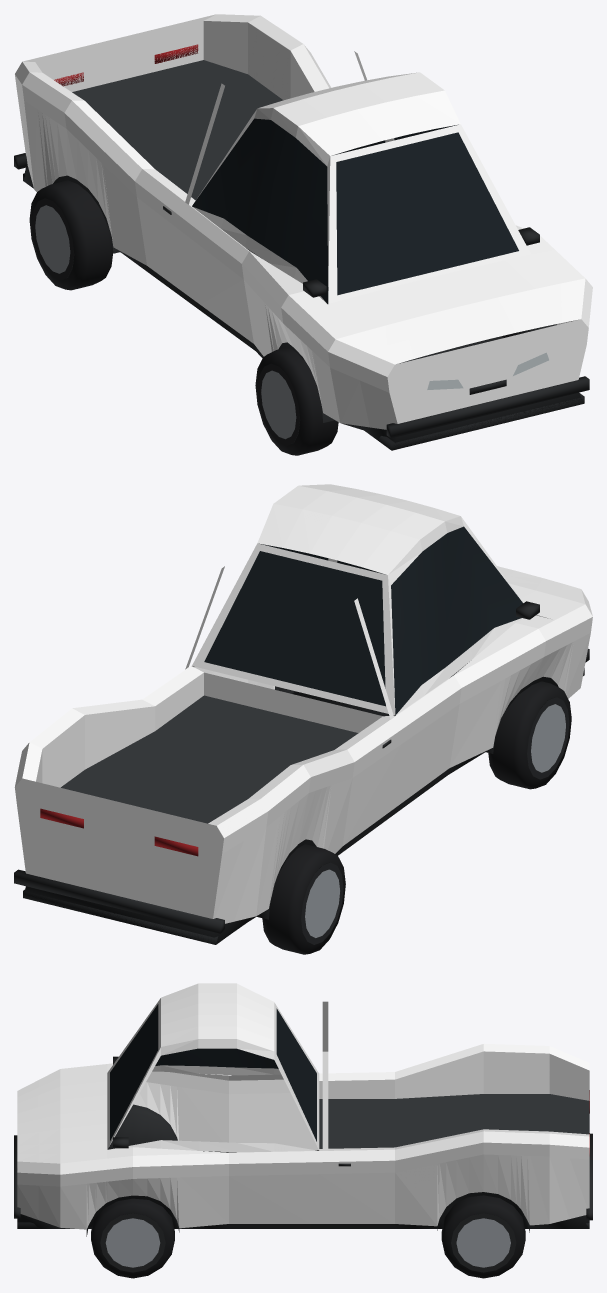
File: whitlock_carreiro.glb
The picture shows the model from 3 angles, top to bottom: view 1: azimuth 30°, elevation 25°; view 2: azimuth 150°, elevation 25°; view 3: azimuth 270°, elevation 25°; orthographic projection. The views are drawn at different scales.
Parts seen in each view (by area): view 1: Body_Paint, Body_Details, Mount_RearLeft_Wheel_Details, Mount_FrontLeft_Wheel_Details; view 2: Body_Paint, Body_Details, Mount_RearLeft_Wheel_Details, Mount_FrontLeft_Wheel_Details; view 3: Body_Paint, Body_Details, Mount_RearRight_Wheel_Details, Mount_FrontRight_Wheel_Details.
Boxes of the visible parts, <box> form: Body_Paint: <box>15,14,592,429</box>; Body_Details: <box>14,44,589,450</box>; Mount_RearLeft_Wheel_Details: <box>29,180,113,290</box>; Mount_FrontLeft_Wheel_Details: <box>255,347,338,455</box>; Body_Paint: <box>14,484,592,923</box>; Body_Details: <box>14,526,589,944</box>; Mount_RearLeft_Wheel_Details: <box>262,844,345,954</box>; Mount_FrontLeft_Wheel_Details: <box>488,681,571,789</box>; Body_Paint: <box>17,983,589,1229</box>; Body_Details: <box>14,1004,592,1236</box>; Mount_RearRight_Wheel_Details: <box>441,1195,525,1278</box>; Mount_FrontRight_Wheel_Details: <box>91,1198,174,1278</box>.
Size of the model in its own units: 1.99 by 2 by 4.76.
Materials: 2 (1 with a texture image).
